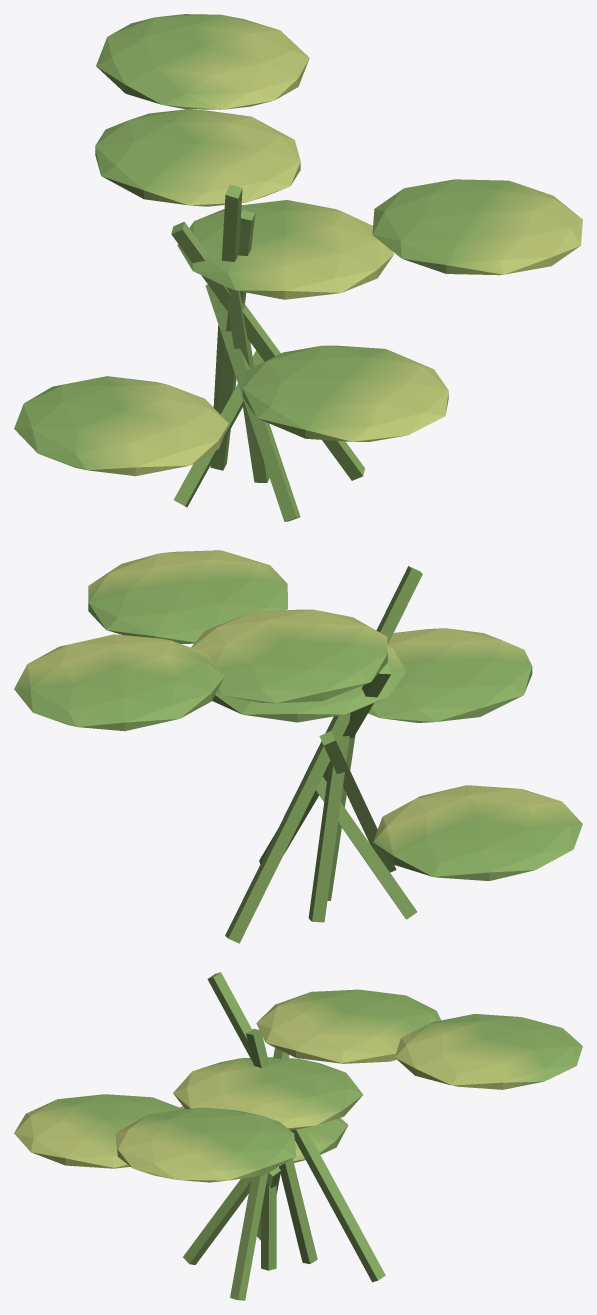
Rendered from epipremnum-aureum.glb.
The picture shows the model from 3 angles, top to bottom: view 1: azimuth 30°, elevation 25°; view 2: azimuth 150°, elevation 25°; view 3: azimuth 270°, elevation 25°; orthographic projection. The views are drawn at different scales.
Visible parts, largest first — view 1: leaf4, leaf5, leaf2, leaf3, leaf1, leaf0, runner3, runner4, runner0, runner1, runner5, runner2; view 2: leaf2, leaf5, leaf1, leaf4, leaf3, runner5, leaf0, runner1, runner2, runner3, runner4, runner0; view 3: leaf5, leaf4, leaf1, leaf0, leaf3, runner5, runner1, runner4, runner3, runner0, leaf2.
Part boxes in pixels (x1,y1,x2,y2): leaf4: (372,179,582,275); leaf5: (96,14,309,109); leaf2: (14,376,228,476); leaf3: (242,345,448,441); leaf1: (95,109,300,206); leaf0: (177,200,393,299); runner3: (205,284,300,521); runner4: (171,221,364,480); runner0: (225,286,269,482); runner1: (210,210,255,470); runner5: (213,184,242,410); runner2: (173,350,264,507); leaf2: (373,785,582,880); leaf5: (14,634,224,731); leaf1: (191,609,387,703); leaf4: (88,550,287,643); leaf3: (368,628,532,722); runner5: (225,566,422,943); leaf0: (212,646,406,722); runner1: (308,735,349,922); runner2: (316,776,417,919); runner3: (319,731,396,872); runner4: (259,663,390,863); runner0: (327,734,355,900); leaf5: (395,1014,582,1089); leaf4: (115,1107,296,1182); leaf1: (256,989,441,1063); leaf0: (173,1057,363,1129); leaf3: (14,1094,183,1168); runner5: (207,972,385,1282); runner1: (246,1028,317,1263); runner4: (230,1047,289,1300); runner3: (183,1177,251,1264); runner0: (261,1182,276,1270); leaf2: (180,1106,348,1162).
Bounding box in the file's own units: 0.5536 × 0.3515 × 0.6568.
